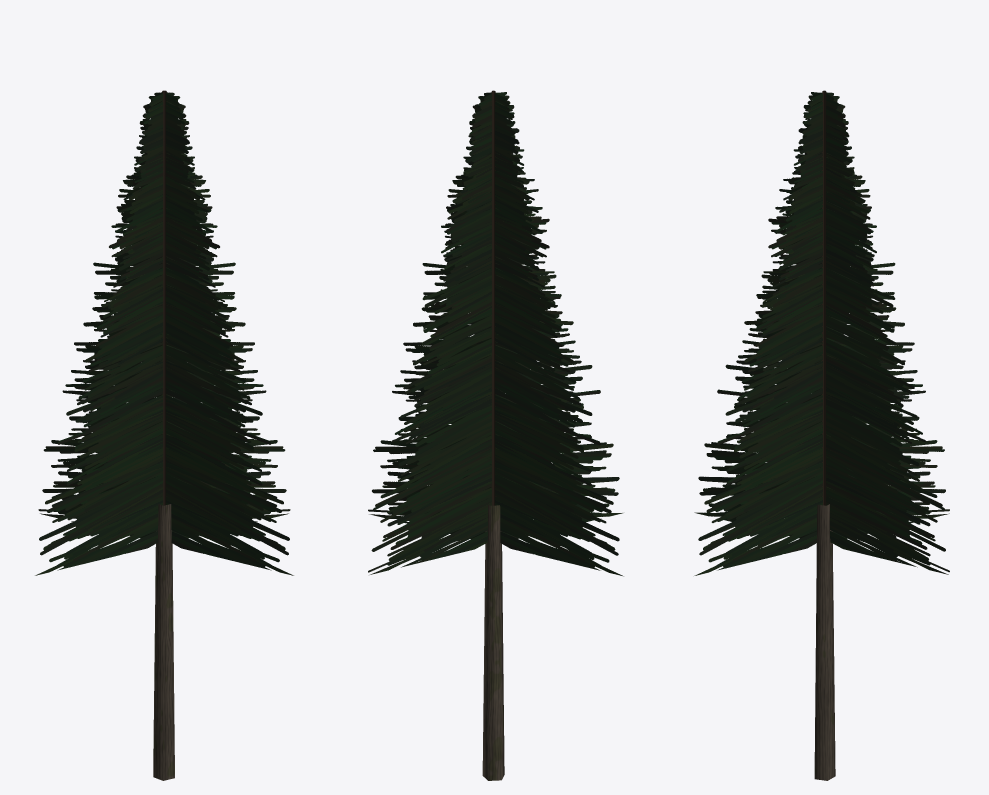
File: S7U_SpruceLOD1.fbx
3 views of the same model, side by side, from view 1: azimuth 30°, elevation 25°; view 2: azimuth 150°, elevation 25°; view 3: azimuth 270°, elevation 25° (orthographic).
Parts seen in each view (by area): view 1: S7U_SpruceLOD1; view 2: S7U_SpruceLOD1; view 3: S7U_SpruceLOD1.
Boxes of the visible parts, left/top/right/bottom form: S7U_SpruceLOD1: left=35, top=90, right=293, bottom=780; S7U_SpruceLOD1: left=368, top=90, right=623, bottom=780; S7U_SpruceLOD1: left=694, top=90, right=949, bottom=780.
Bounding box in the file's own units: 7.5 × 16.4 × 6.5.
